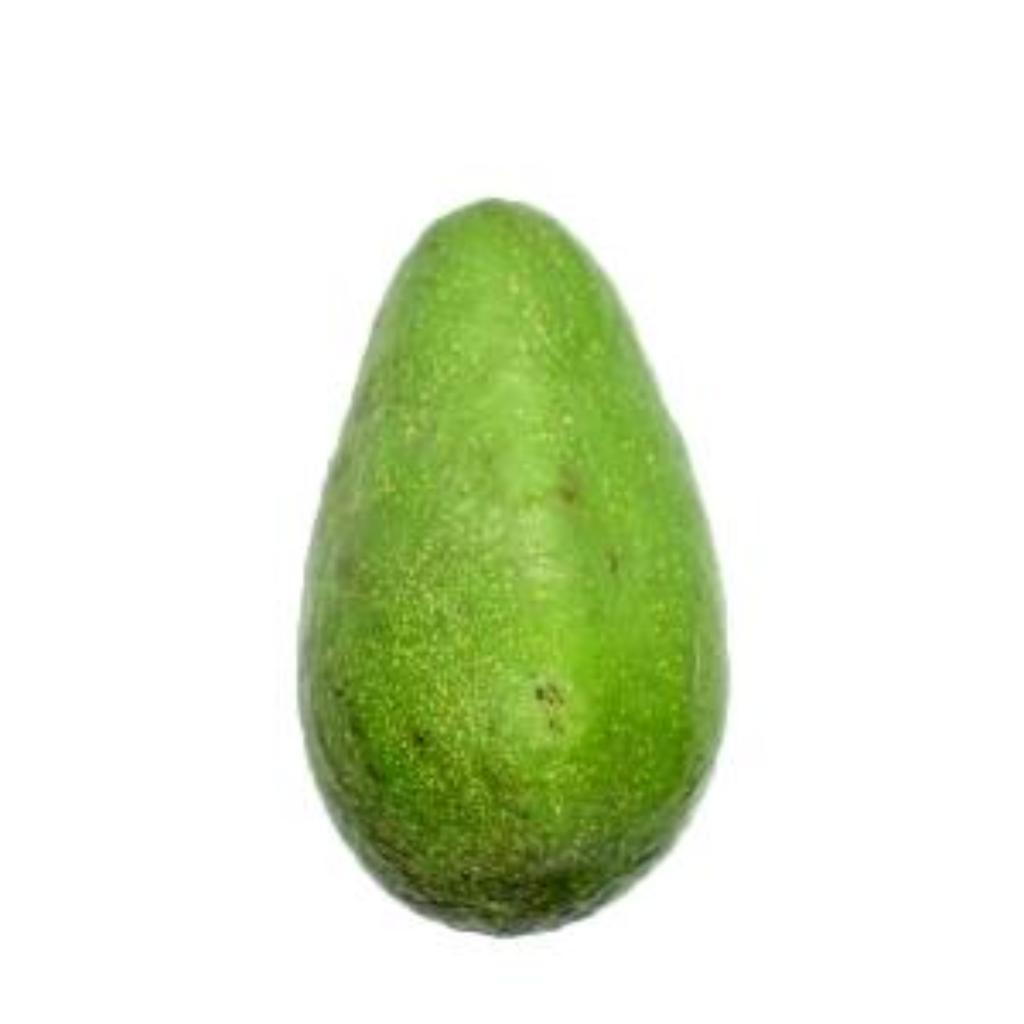cercospora_spot: (266, 170, 764, 940)
